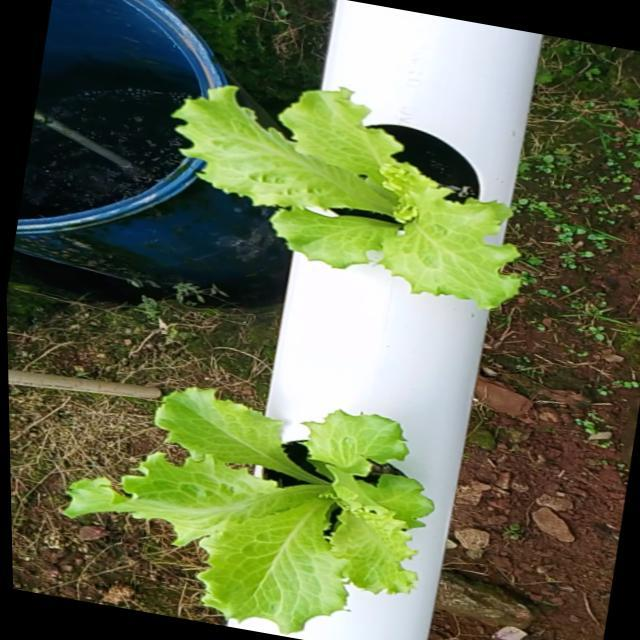Baby: (66, 387, 437, 636), (175, 82, 526, 305)
